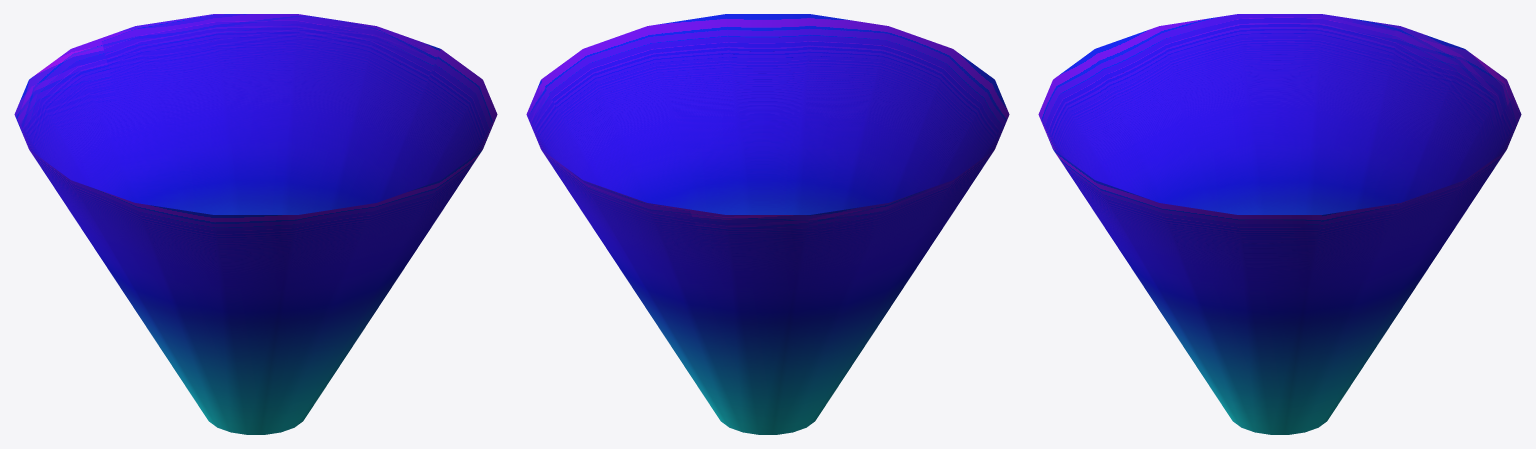
File: SciFi_CR_HoloEffect.FBX
The picture shows the model from 3 angles, left to right: view 1: azimuth 30°, elevation 25°; view 2: azimuth 150°, elevation 25°; view 3: azimuth 270°, elevation 25°; orthographic projection.
Parts seen in each view (by area): view 1: SciFi_CR_HoloEffect; view 2: SciFi_CR_HoloEffect; view 3: SciFi_CR_HoloEffect.
Boxes of the visible parts, box(x1,y1,x2,y2) form: SciFi_CR_HoloEffect: box(14, 14, 497, 434); SciFi_CR_HoloEffect: box(526, 14, 1009, 434); SciFi_CR_HoloEffect: box(1038, 14, 1521, 434).
Size of the model in its own units: 499 by 347 by 507.
Materials: 1 (1 with a texture image).
